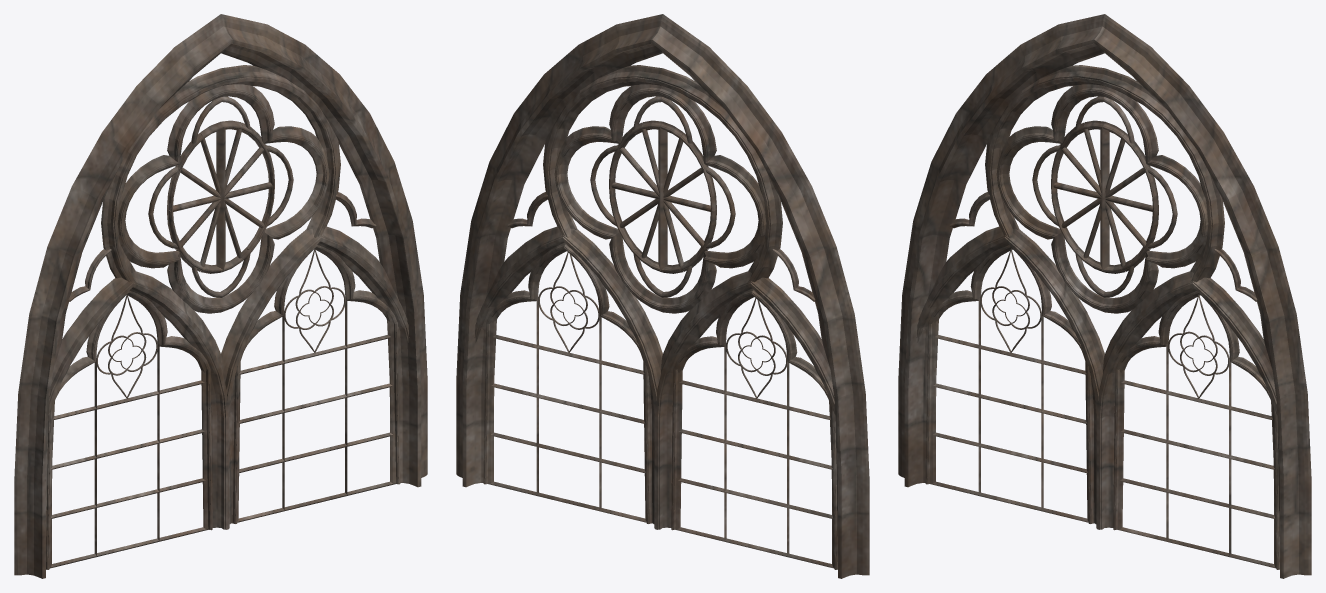
The model's file is Window Big.fbx.
3 views of the same model, side by side, from view 1: azimuth 30°, elevation 25°; view 2: azimuth 150°, elevation 25°; view 3: azimuth 330°, elevation 25° (orthographic).
Parts seen in each view (by area): view 1: Circle.010; view 2: Circle.010; view 3: Circle.010.
Boxes of the visible parts, x1,y1,x2,y2 form: Circle.010: [14, 14, 427, 578]; Circle.010: [456, 14, 869, 578]; Circle.010: [898, 14, 1311, 578].
Size of the model in its own units: 220 by 261 by 20.
1 material, 1 textured.
